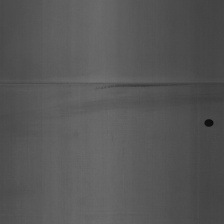punching_hole: (1, 76, 221, 92), (203, 116, 214, 129)
